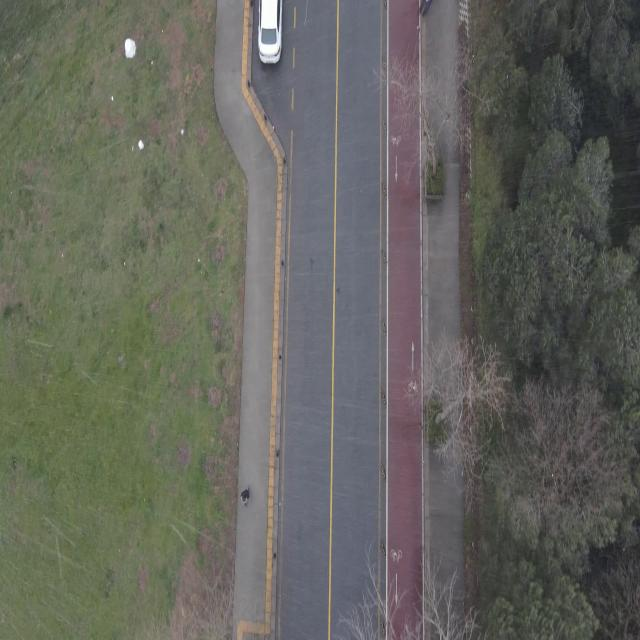p3rson: (240, 483, 250, 507)
